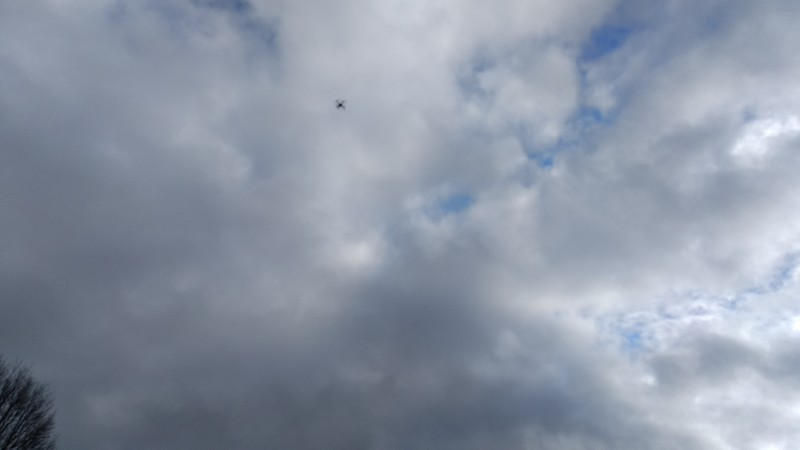drone: (334, 99, 346, 111)
